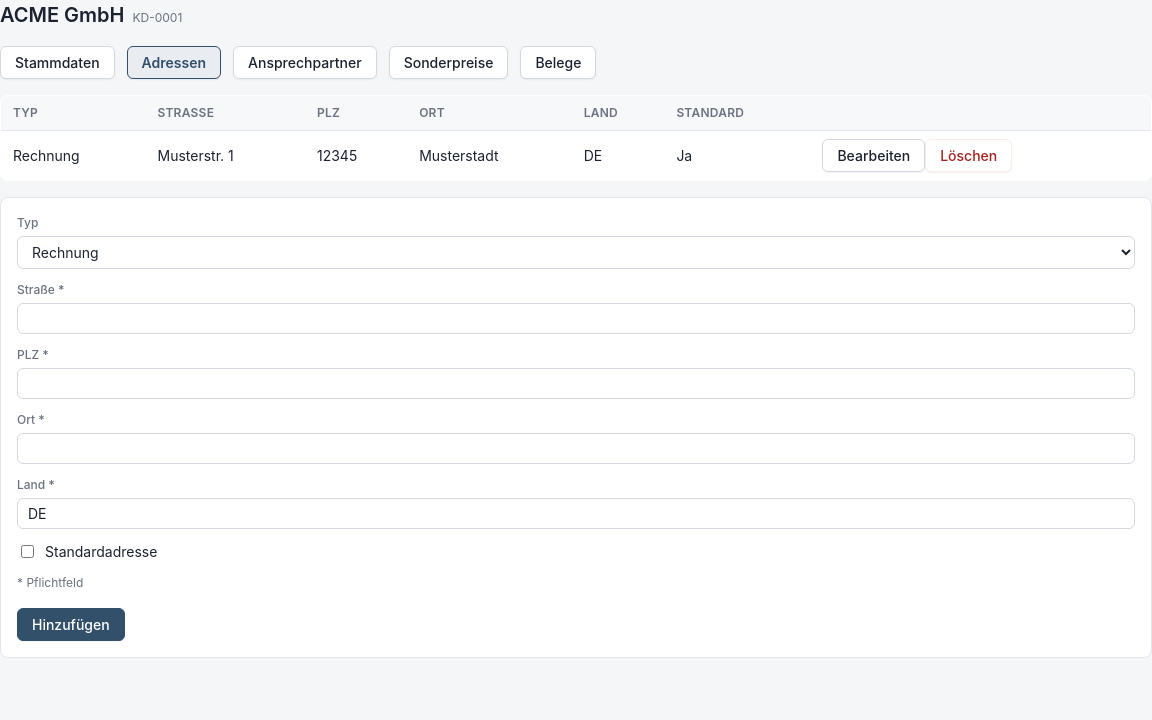
Test case: KundeDetail › zeigt nach dem Löschen einer Adresse einen Erfolgs-Hinweis
This screenshot has width=1152, height=720.
Expected: the button "Adressen" is shown, [127,46,221,79]
Click the button "Löschen". click: [969, 156]
box: [925,139,1012,172]
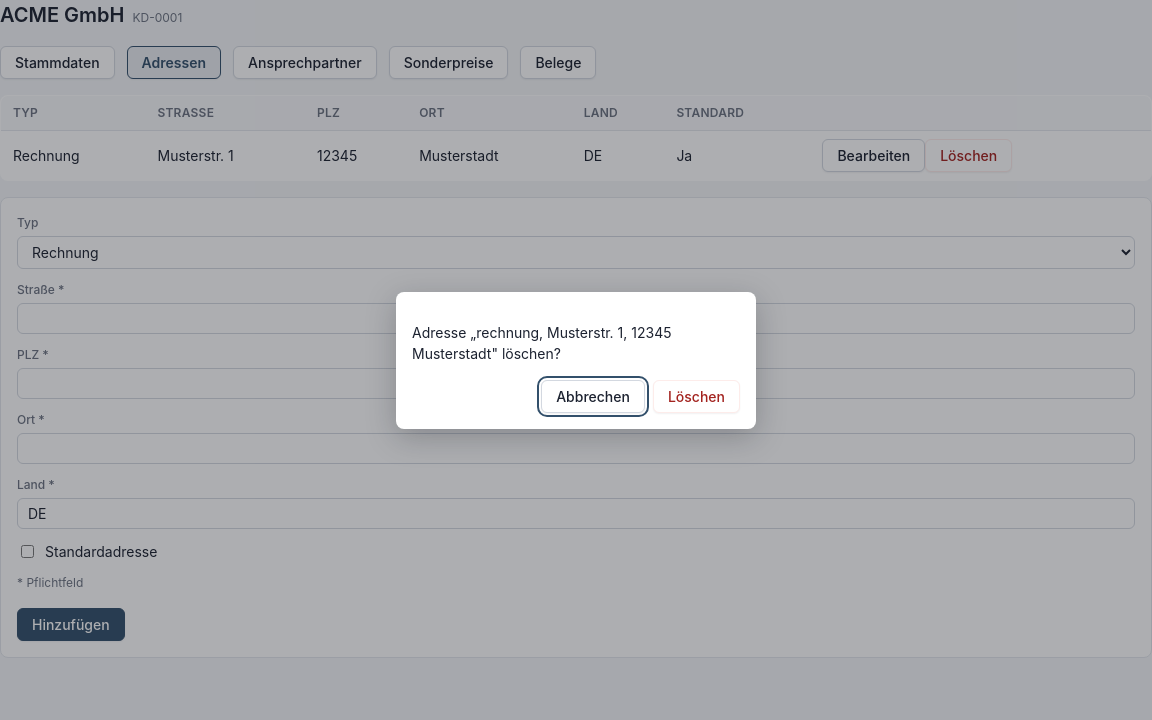
Expected: the text "Adresse „rechnung, Musterstr. 1, 12345 Musterstadt\" löschen?" is shown, [412,324,672,362]
Click the button "Löschen". click: [696, 396]
box: [653,380,740,412]
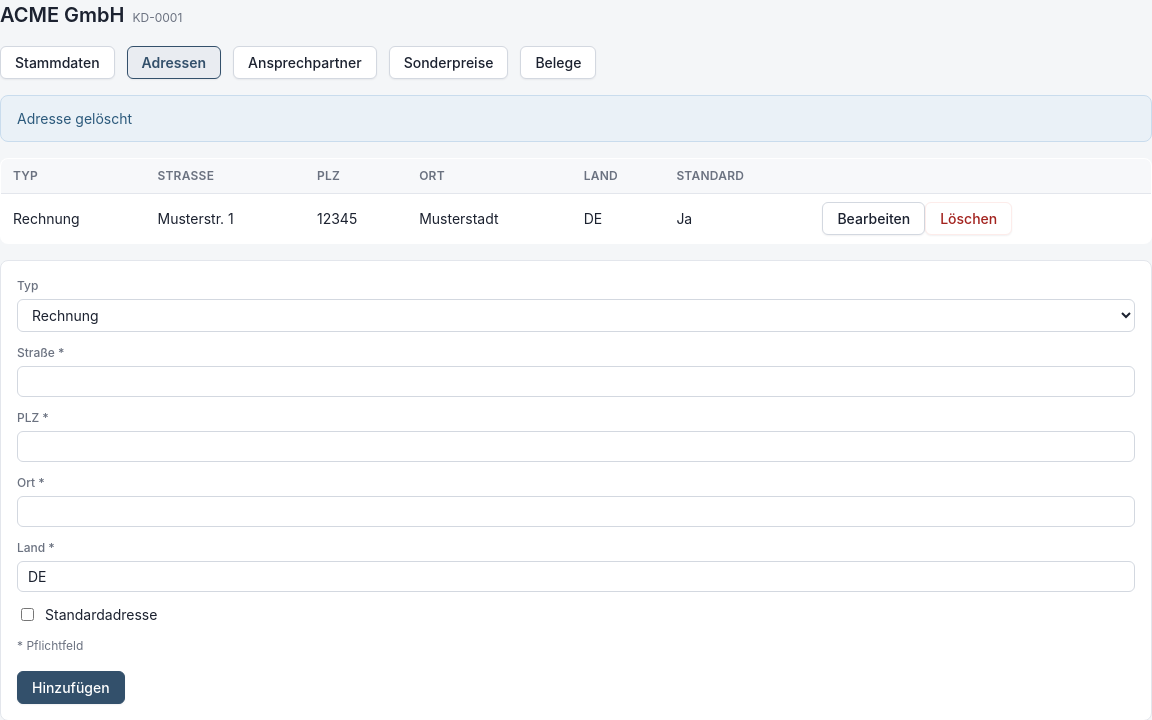
Expected: the text "Adresse gelöscht" is shown, [17,108,132,129]
